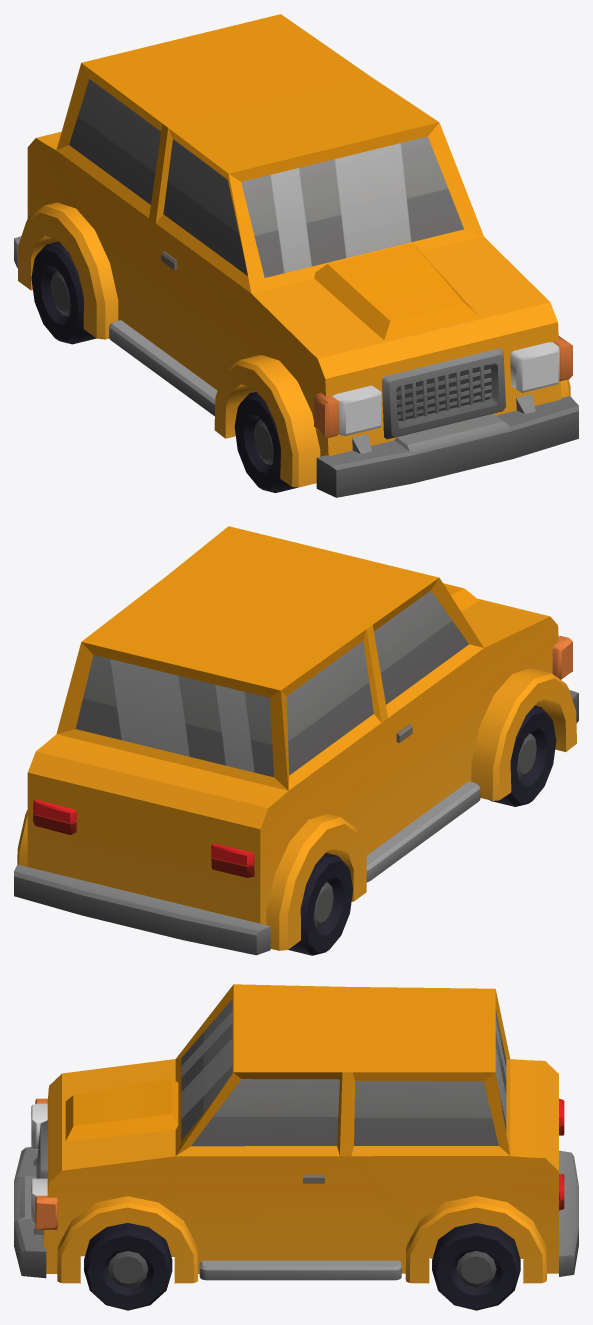
Rendered from Car_3_19.fbx.
3 renders of one model, top to bottom at view 1: azimuth 30°, elevation 25°; view 2: azimuth 150°, elevation 25°; view 3: azimuth 270°, elevation 25°, orthographic. The views are drawn at different scales.
Parts seen in each view (by area): view 1: Car_3_19, Wheel_Br, Wheel_Fr; view 2: Car_3_19, Wheel_Br, Wheel_Fr; view 3: Car_3_19, Wheel_Bl, Wheel_Fl.
Boxes of the visible parts, box(x1,y1,x2,y2) form: Car_3_19: box(14, 14, 578, 497); Wheel_Br: box(31, 241, 96, 344); Wheel_Fr: box(234, 391, 297, 492); Car_3_19: box(14, 526, 578, 955); Wheel_Br: box(288, 853, 353, 955); Wheel_Fr: box(490, 705, 556, 806); Car_3_19: box(14, 984, 578, 1283); Wheel_Bl: box(432, 1223, 520, 1310); Wheel_Fl: box(84, 1223, 172, 1310).
Bounding box in the file's own units: 1.13 × 1.02 × 2.3.
